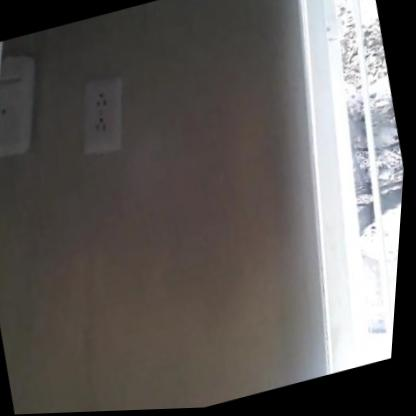OUTLET: (69, 75, 133, 157)
